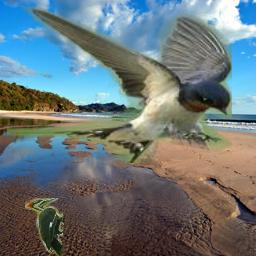Swallow: (7, 4, 232, 163)
Woodpecker: (25, 198, 65, 256)
